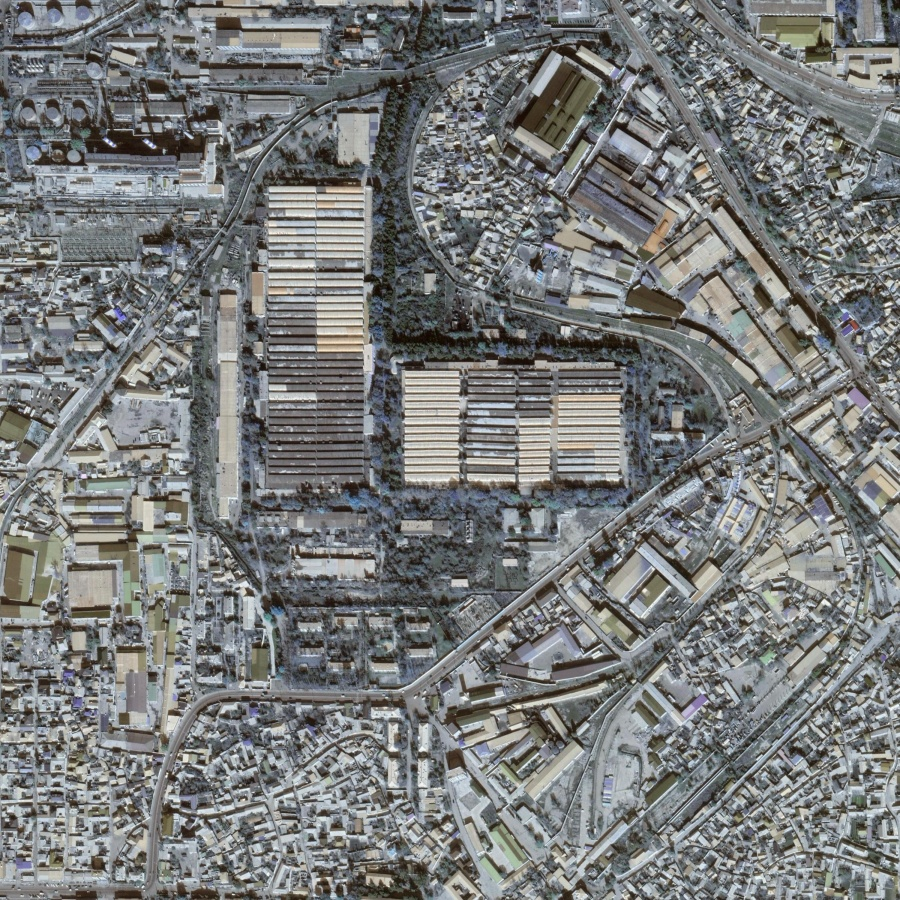PowerPlant: (8, 52, 229, 263)
